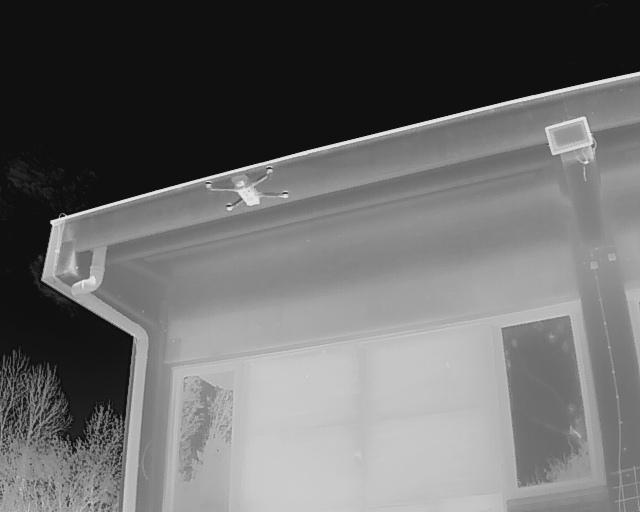drone: (192, 162, 300, 221)
